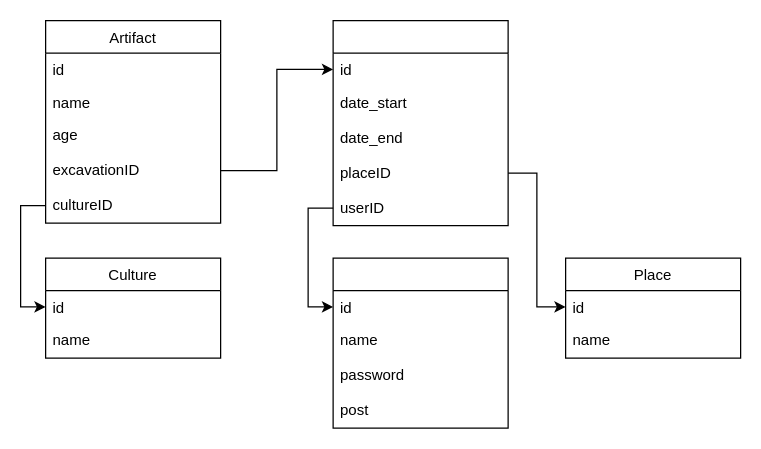
Image size: 761x449. Some labels were removed from this diagram. Each missing label, with the box of its shape:
Excavation: (332, 19, 508, 226)
User: (332, 257, 508, 428)
